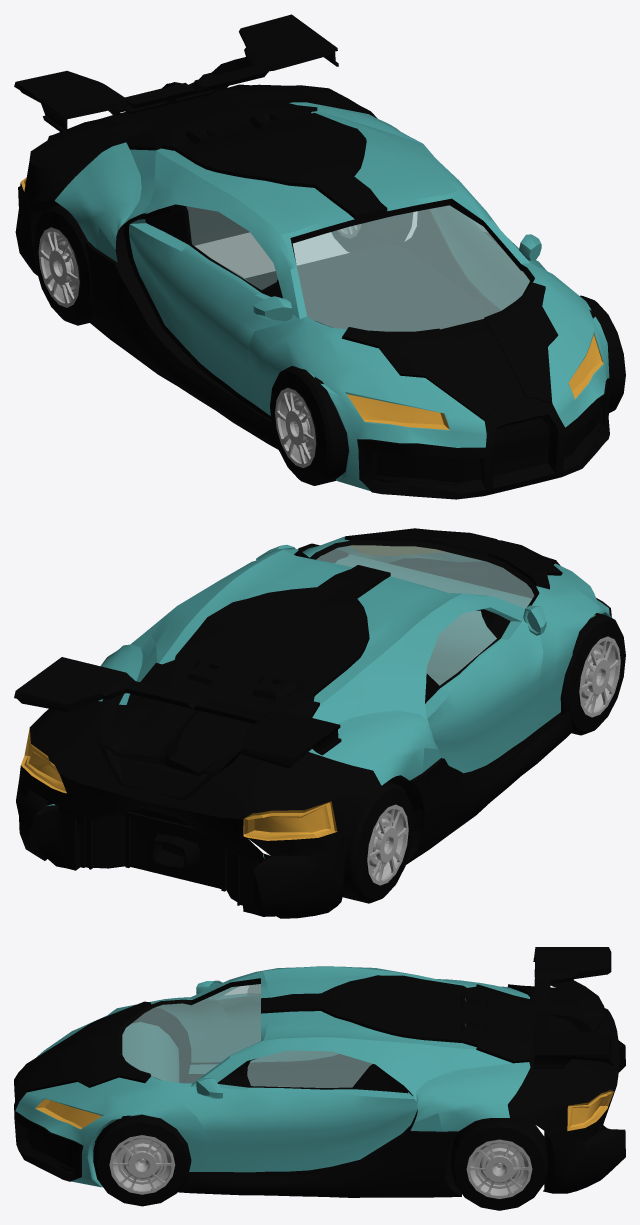
The model's file is buggati_chiron.glb.
The picture shows the model from 3 angles, top to bottom: view 1: azimuth 30°, elevation 25°; view 2: azimuth 150°, elevation 25°; view 3: azimuth 270°, elevation 25°; orthographic projection. The views are drawn at different scales.
Parts seen in each view (by area): view 1: polySurface35, polySurface61, polySurface17, polySurface29, polySurface13, polySurface43, polySurface31, polySurface24, polySurface4, polySurface12, polySurface14, polySurface40 (+11 smaller); view 2: polySurface12, polySurface13, polySurface35, polySurface4, polySurface61, polySurface40, polySurface19, polySurface14, polySurface24, polySurface17, polySurface53, polySurface54 (+10 smaller); view 3: polySurface35, polySurface61, polySurface13, polySurface12, polySurface24, polySurface17, polySurface4, polySurface6, polySurface40, polySurface55, polySurface14, polySurface31 (+10 smaller).
Part boxes in pixels (x1=…): polySurface35: x1=129, y1=112, x2=546, y2=403; polySurface61: x1=145, y1=206, x2=609, y2=491; polySurface17: x1=293, y1=205, x2=529, y2=331; polySurface29: x1=357, y1=319, x2=609, y2=499; polySurface13: x1=125, y1=101, x2=387, y2=218; polySurface43: x1=245, y1=243, x2=483, y2=331; polySurface31: x1=342, y1=282, x2=558, y2=420; polySurface24: x1=85, y1=209, x2=498, y2=449; polySurface4: x1=14, y1=14, x2=338, y2=133; polySurface12: x1=15, y1=84, x2=377, y2=275; polySurface14: x1=156, y1=111, x2=458, y2=234; polySurface40: x1=54, y1=102, x2=422, y2=262; polySurface12: x1=16, y1=701, x2=381, y2=918; polySurface13: x1=126, y1=565, x2=390, y2=730; polySurface35: x1=143, y1=547, x2=543, y2=773; polySurface4: x1=14, y1=657, x2=341, y2=800; polySurface61: x1=46, y1=536, x2=612, y2=858; polySurface40: x1=98, y1=634, x2=440, y2=785; polySurface19: x1=77, y1=808, x2=242, y2=905; polySurface14: x1=159, y1=550, x2=461, y2=704; polySurface24: x1=406, y1=711, x2=573, y2=864; polySurface17: x1=316, y1=545, x2=534, y2=608; polySurface53: x1=342, y1=781, x2=413, y2=903; polySurface54: x1=560, y1=613, x2=625, y2=735; polySurface35: x1=184, y1=966, x2=475, y2=1172; polySurface61: x1=15, y1=984, x2=601, y2=1187; polySurface13: x1=261, y1=975, x2=534, y2=1063; polySurface12: x1=507, y1=984, x2=625, y2=1193; polySurface24: x1=178, y1=1056, x2=461, y2=1197; polySurface17: x1=122, y1=984, x2=260, y2=1083; polySurface4: x1=533, y1=947, x2=613, y2=1068; polySurface6: x1=450, y1=1118, x2=548, y2=1210; polySurface40: x1=404, y1=979, x2=530, y2=1131; polySurface55: x1=93, y1=1114, x2=191, y2=1206; polySurface14: x1=263, y1=967, x2=476, y2=1049; polySurface31: x1=25, y1=1001, x2=151, y2=1092.
Size of the model in its own units: 0.1938 by 0.1038 by 0.3873.
